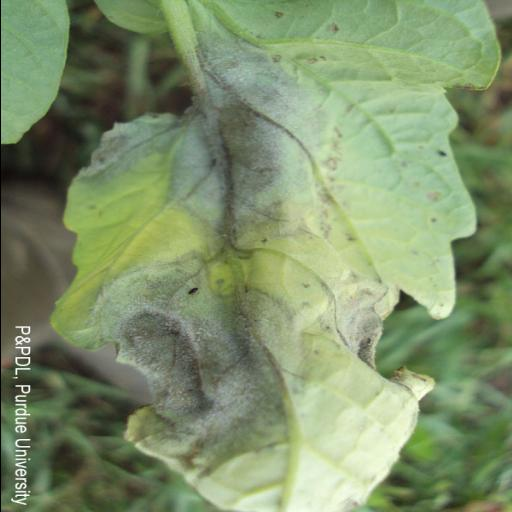disease_tomato: (48, 0, 504, 512)
